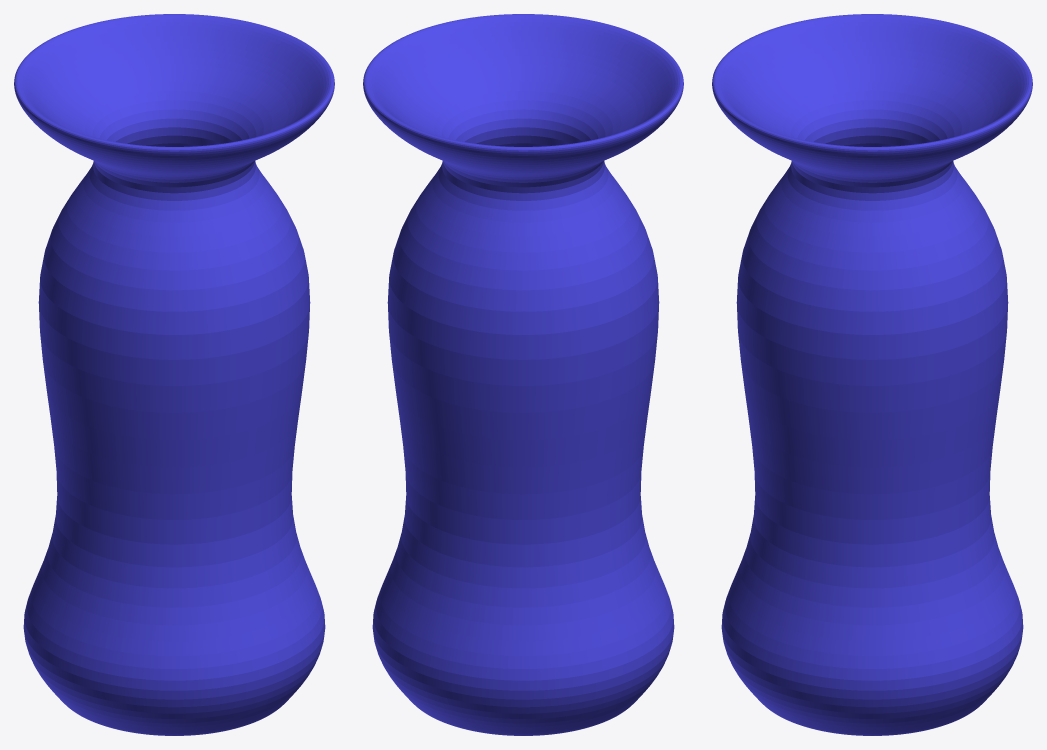
Rendered from Gerro_1.fbx.
3 renders of one model, left to right at view 1: azimuth 30°, elevation 25°; view 2: azimuth 150°, elevation 25°; view 3: azimuth 270°, elevation 25°, orthographic.
Visible parts, largest first — view 1: Gerro_1; view 2: Gerro_1; view 3: Gerro_1.
Boxes of the visible parts, x1,y1,x2,y2 form: Gerro_1: (14, 14, 334, 735); Gerro_1: (363, 14, 683, 735); Gerro_1: (712, 14, 1032, 735).
Size of the model in its own units: 274 by 571 by 274.
